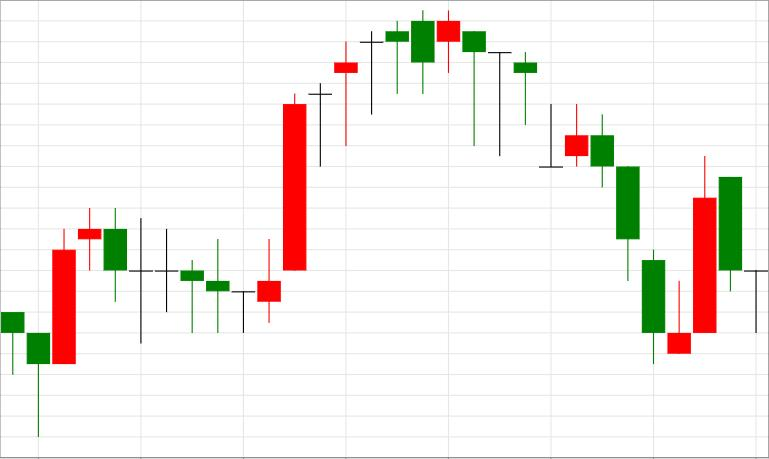morning_star_rise: (514, 52, 717, 364)
